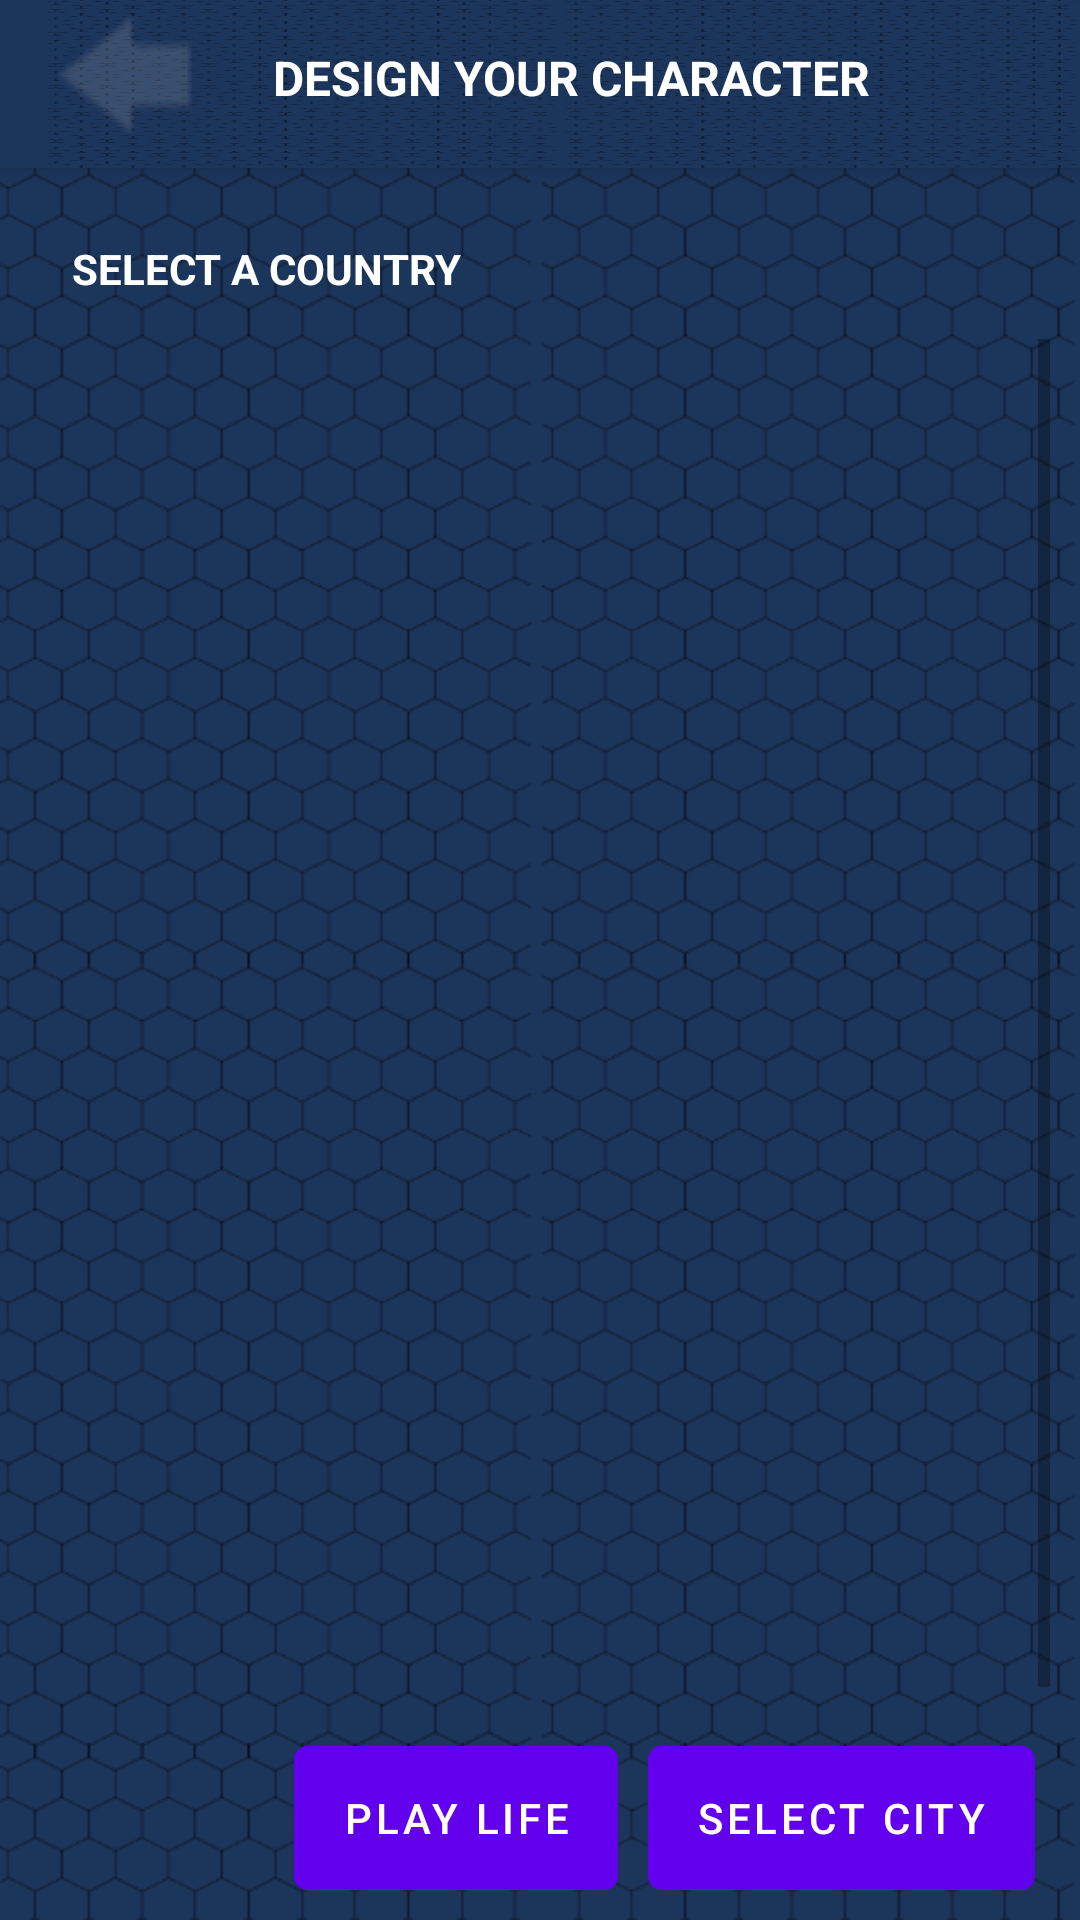

Named icons in this screenshot (1080px x 1920px) and their centers, point (x, y):
previous: point (139, 84)
